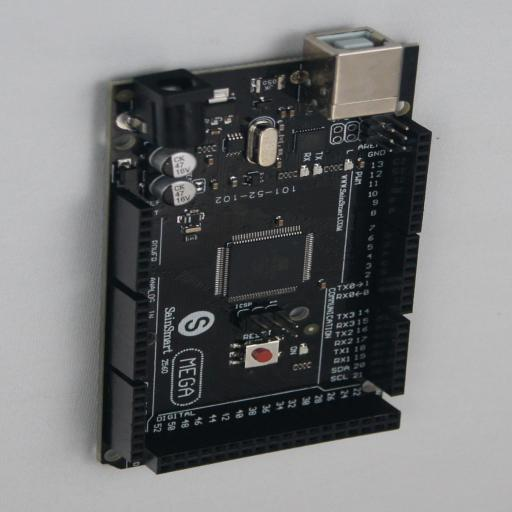Arduino Mega 2560 -Black-: (92, 30, 432, 474)
